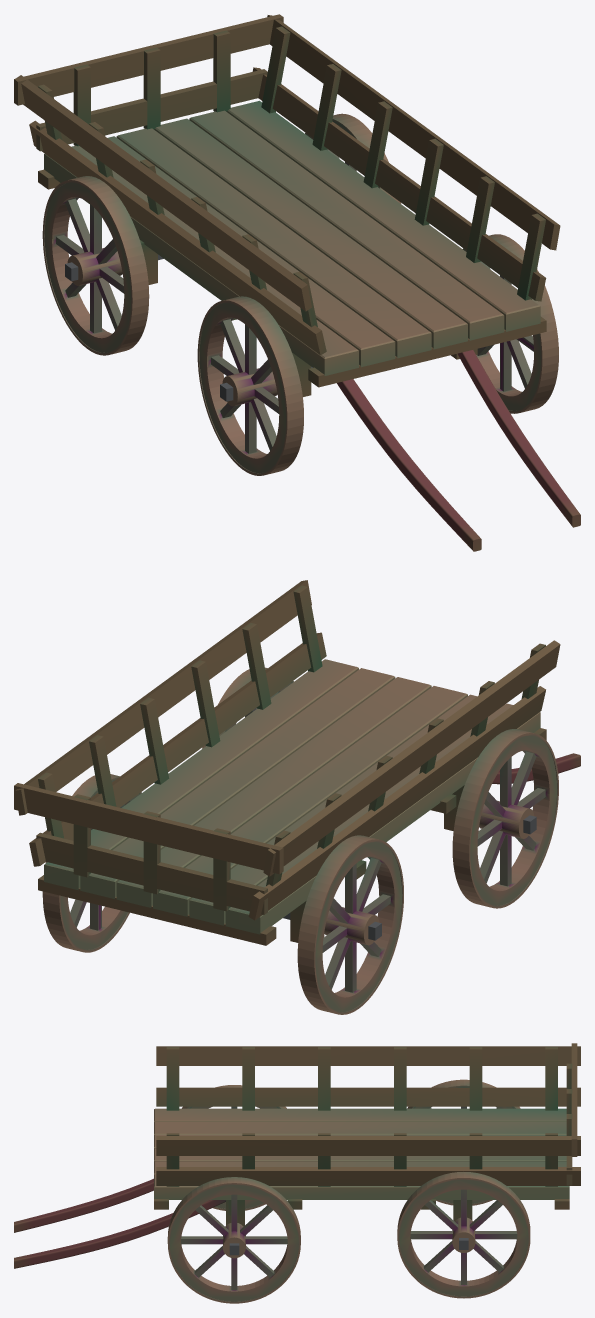
3 renders of one model, top to bottom at view 1: azimuth 30°, elevation 25°; view 2: azimuth 150°, elevation 25°; view 3: azimuth 270°, elevation 25°, orthographic. The views are drawn at different scales.
Visible parts, largest first — view 1: wooden_rim.003, wooden_rim.001, plank.003, plank.005, plank.004, plank.006, upper_rail.001, upper_rail, lower_rail, lower_rail.001, end_upper, plank.001 (+16 smaller); view 2: wooden_rim.001, wooden_rim.003, plank.004, plank.005, plank.003, plank.006, upper_rail.001, end_upper, upper_rail, lower_rail.001, lower_rail, end_lower (+13 smaller); view 3: wooden_rim, wooden_rim.002, upper_rail, upper_rail.001, lower_rail.001, lower_rail, plank.001, plank.002, plank.006, shaft, plank.005, plank.004 (+11 smaller).
Part boxes in pixels (bbox=[...]): wooden_rim.003: bbox=[42, 176, 149, 355]; wooden_rim.001: bbox=[197, 296, 303, 475]; plank.003: bbox=[116, 128, 431, 358]; plank.005: bbox=[189, 110, 504, 340]; plank.004: bbox=[154, 118, 467, 349]; plank.006: bbox=[226, 100, 540, 331]; upper_rail.001: bbox=[16, 75, 311, 311]; upper_rail: bbox=[267, 15, 560, 250]; lower_rail: bbox=[252, 67, 546, 301]; lower_rail.001: bbox=[29, 120, 326, 355]; end_upper: bbox=[14, 14, 283, 105]; plank.001: bbox=[44, 145, 358, 375]; wooden_rim.001: bbox=[452, 729, 558, 908]; wooden_rim.003: bbox=[297, 835, 403, 1014]; plank.004: bbox=[116, 677, 431, 907]; plank.005: bbox=[80, 668, 395, 898]; plank.003: bbox=[153, 686, 467, 916]; plank.006: bbox=[44, 659, 358, 890]; upper_rail.001: bbox=[263, 640, 560, 876]; end_upper: bbox=[14, 783, 283, 874]; upper_rail: bbox=[15, 580, 311, 815]; lower_rail.001: bbox=[248, 686, 545, 920]; lower_rail: bbox=[29, 632, 326, 866]; end_lower: bbox=[36, 832, 267, 914]; wooden_rim: bbox=[167, 1177, 300, 1303]; wooden_rim.002: bbox=[397, 1172, 530, 1298]; upper_rail: bbox=[156, 1136, 580, 1155]; upper_rail.001: bbox=[156, 1046, 580, 1065]; lower_rail.001: bbox=[156, 1087, 580, 1106]; lower_rail: bbox=[156, 1167, 580, 1185]; plank.001: bbox=[154, 1108, 566, 1121]; plank.002: bbox=[154, 1122, 566, 1135]; plank.006: bbox=[154, 1174, 569, 1199]; shaft: bbox=[14, 1200, 225, 1268]; plank.005: bbox=[154, 1161, 566, 1174]; plank.004: bbox=[154, 1148, 566, 1161].
Bounding box in the file's own units: 1.16 × 0.785 × 2.47.
